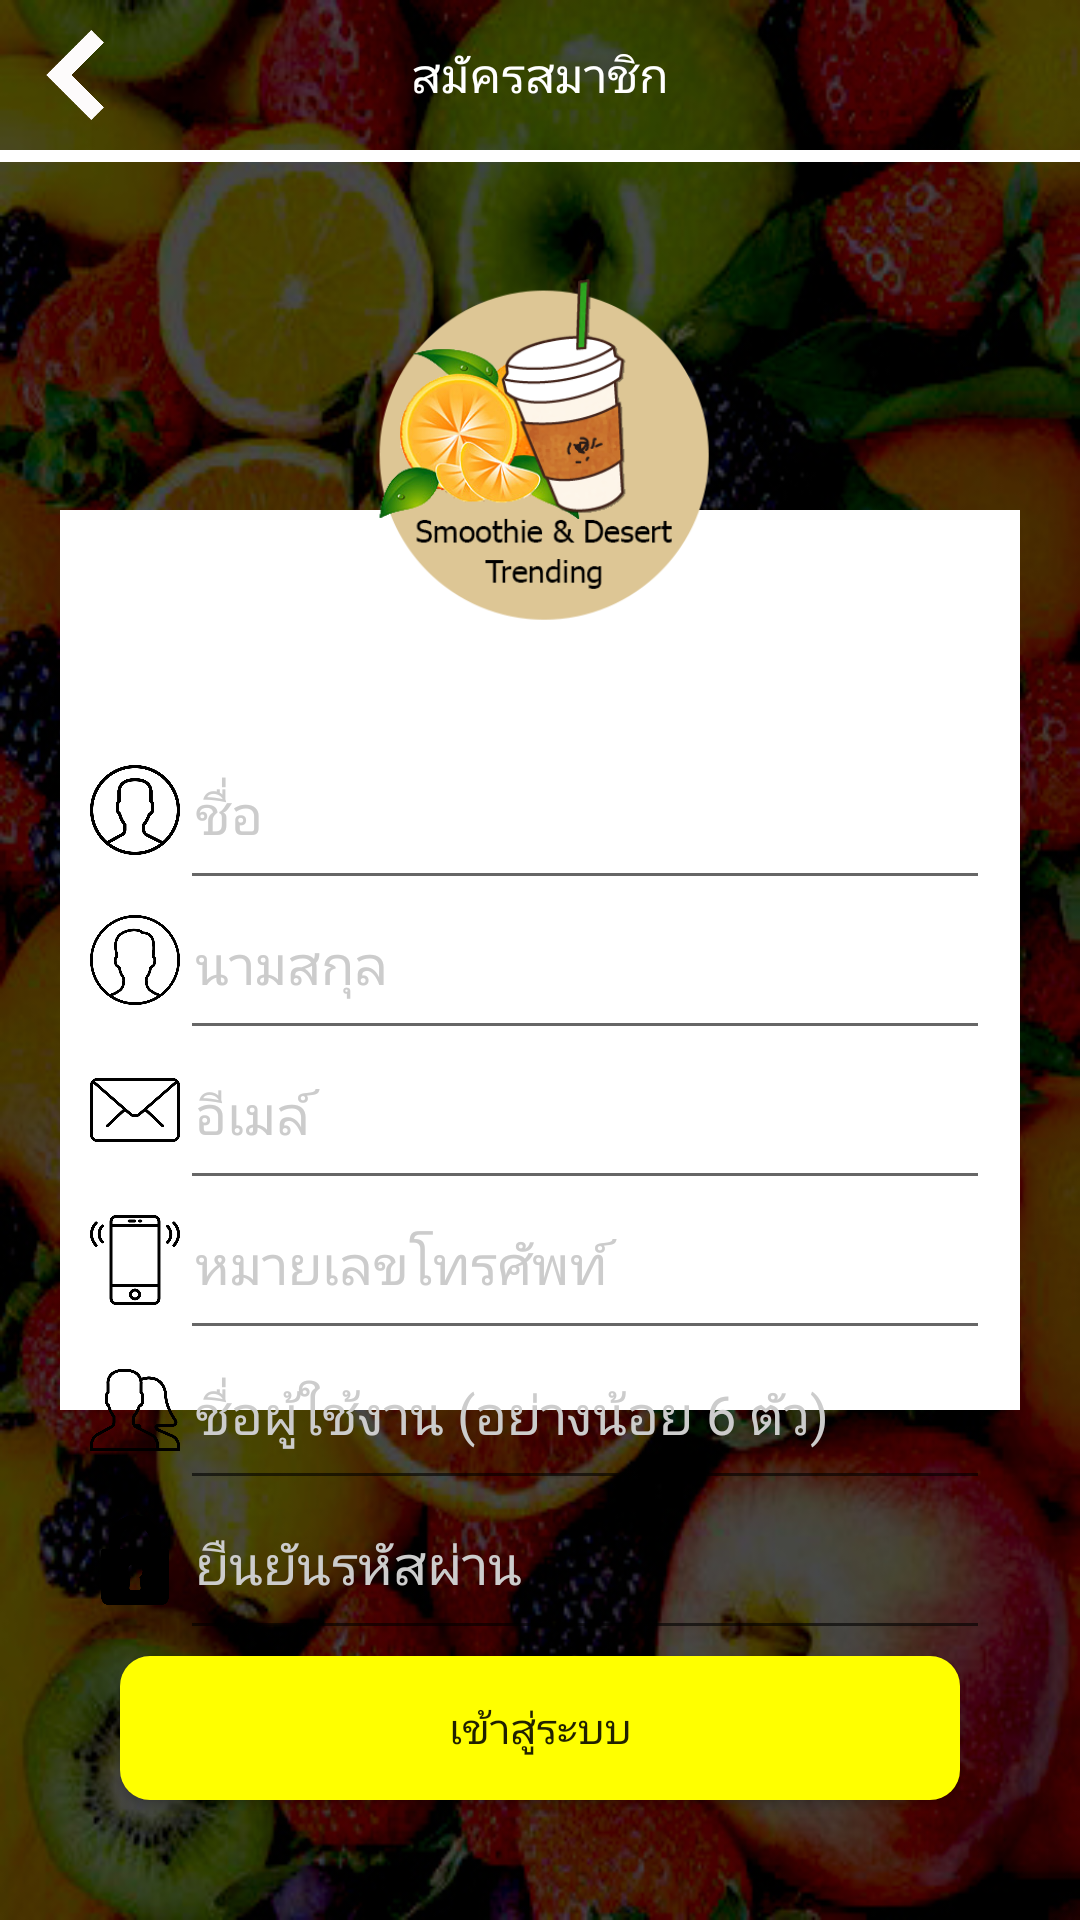

Locate icon controls on the screen. Image size 1080 × 1920, boxes as Rect(x1, y1, x2, y2).
back: Rect(30, 30, 120, 120)
